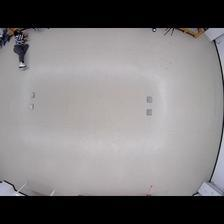fall: (11, 30, 30, 68)
